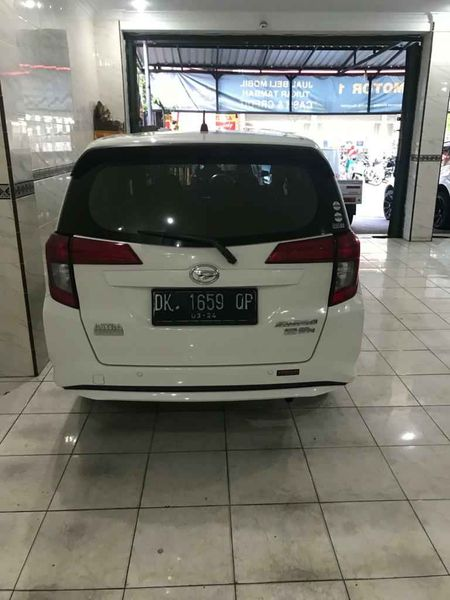plate: (145, 284, 264, 331)
